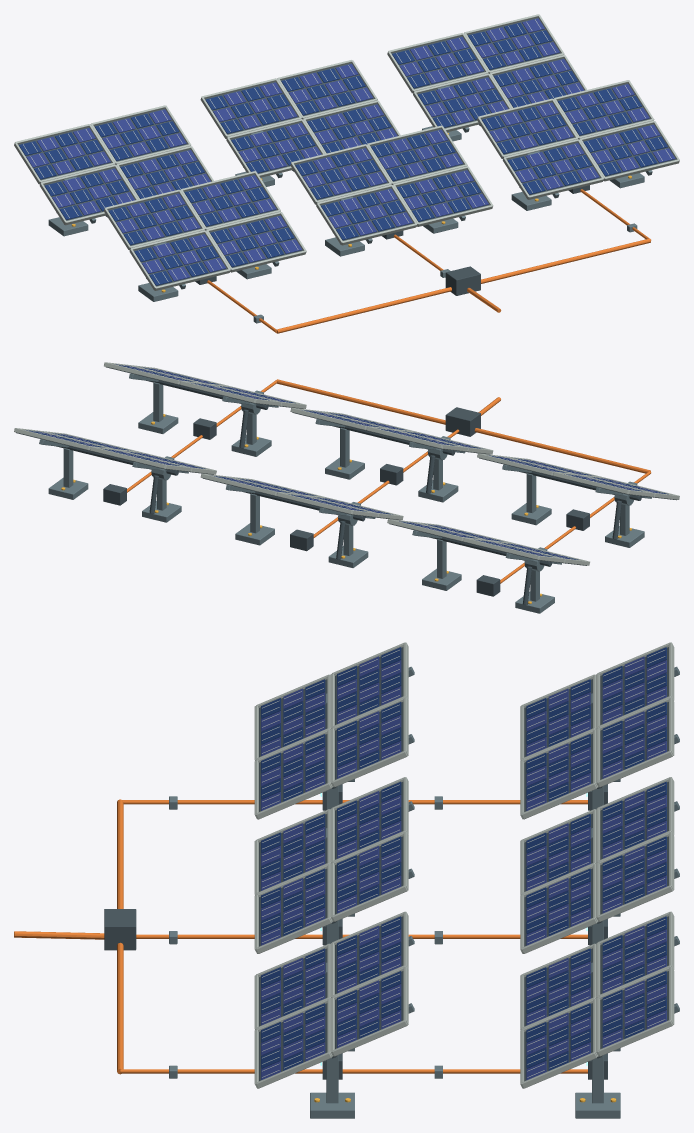
File: solar_array_d0.glb
3 views of the same model, one above another, from view 1: azimuth 30°, elevation 25°; view 2: azimuth 150°, elevation 25°; view 3: azimuth 270°, elevation 25° (orthographic). The views are drawn at different scales.
Parts seen in each view (by area): view 1: COLLECTION_CABLE_TRUNK, ARRAY_COMBINER_BOX, PV_BACKING_015, PV_BACKING_002, PV_BACKING_003, PV_BACKING_001, PV_BACKING_017, PV_BACKING_007, PV_BACKING_011, PV_BACKING_023, PV_BACKING_006, PV_BACKING_010 (+14 smaller); view 2: COLLECTION_CABLE_TRUNK, ARRAY_COMBINER_BOX, RACK_ANCHOR_FOOTING_011, RACK_ANCHOR_FOOTING_001, RACK_ANCHOR_FOOTING_005, RACK_ANCHOR_FOOTING_009, RACK_ANCHOR_FOOTING_007, RACK_ANCHOR_FOOTING_003, RACK_ANCHOR_FOOTING_002, RACK_ANCHOR_FOOTING_006, RACK_ANCHOR_FOOTING_008, RACK_ANCHOR_FOOTING_004 (+25 smaller); view 3: ARRAY_COLLECTION_CABLE_002, COLLECTION_CABLE_TRUNK, ARRAY_COLLECTION_CABLE, ARRAY_COMBINER_BOX, ARRAY_COLLECTION_CABLE_001, RACK_ANCHOR_FOOTING_011, RACK_ANCHOR_FOOTING_005.
Part boxes in pixels (bbox=[...]): COLLECTION_CABLE_TRUNK: bbox=[276, 238, 650, 333]; ARRAY_COMBINER_BOX: bbox=[445, 266, 480, 295]; PV_BACKING_015: bbox=[94, 108, 187, 161]; PV_BACKING_002: bbox=[209, 214, 302, 267]; PV_BACKING_003: bbox=[183, 174, 277, 227]; PV_BACKING_001: bbox=[108, 192, 201, 245]; PV_BACKING_017: bbox=[205, 81, 298, 134]; PV_BACKING_007: bbox=[370, 128, 463, 181]; PV_BACKING_011: bbox=[557, 83, 650, 136]; PV_BACKING_023: bbox=[467, 17, 560, 70]; PV_BACKING_006: bbox=[396, 169, 489, 222]; PV_BACKING_010: bbox=[583, 123, 676, 176]; COLLECTION_CABLE_TRUNK: bbox=[276, 379, 650, 473]; ARRAY_COMBINER_BOX: bbox=[445, 407, 480, 436]; RACK_ANCHOR_FOOTING_011: bbox=[48, 477, 88, 499]; RACK_ANCHOR_FOOTING_001: bbox=[511, 503, 551, 525]; RACK_ANCHOR_FOOTING_005: bbox=[138, 412, 178, 433]; RACK_ANCHOR_FOOTING_009: bbox=[235, 523, 274, 545]; RACK_ANCHOR_FOOTING_007: bbox=[422, 568, 461, 590]; RACK_ANCHOR_FOOTING_003: bbox=[325, 457, 364, 479]; RACK_ANCHOR_FOOTING_002: bbox=[418, 480, 458, 502]; RACK_ANCHOR_FOOTING_006: bbox=[515, 591, 554, 613]; RACK_ANCHOR_FOOTING_008: bbox=[328, 546, 368, 567]; RACK_ANCHOR_FOOTING_004: bbox=[231, 435, 271, 456]; ARRAY_COLLECTION_CABLE_002: bbox=[120, 1069, 587, 1073]; COLLECTION_CABLE_TRUNK: bbox=[117, 799, 123, 1074]; ARRAY_COLLECTION_CABLE: bbox=[122, 800, 587, 804]; ARRAY_COMBINER_BOX: bbox=[104, 909, 136, 950]; ARRAY_COLLECTION_CABLE_001: bbox=[136, 934, 587, 938]; RACK_ANCHOR_FOOTING_011: bbox=[575, 1092, 620, 1118]; RACK_ANCHOR_FOOTING_005: bbox=[310, 1092, 354, 1118].
Bounding box in the file's own units: 16.88 × 2.3 × 12.55.
